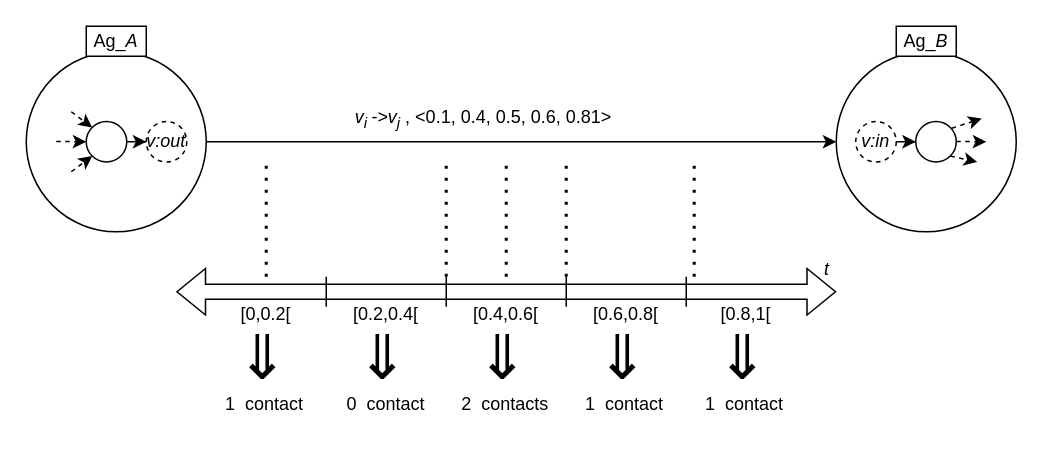
Some shapes in this 1043 by 453 pixel diagram are drawn without their labels. Here are the shapes that lost their labels. From the top down, the centre of each, then its label:
At (106,141): "v i".
At (935,141): "v j".
